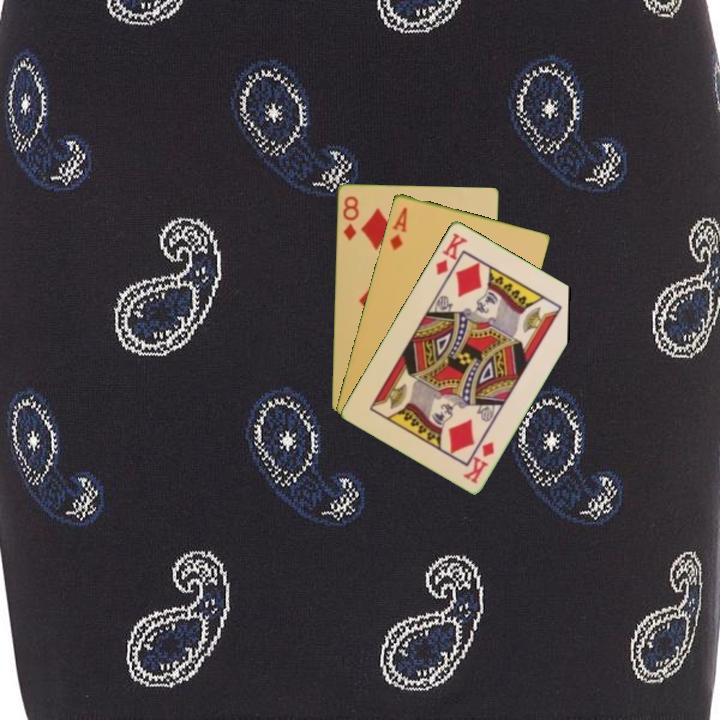8d: (339, 193, 361, 243)
Ad: (386, 203, 410, 253)
Kd: (432, 229, 470, 278), (460, 437, 497, 486)
